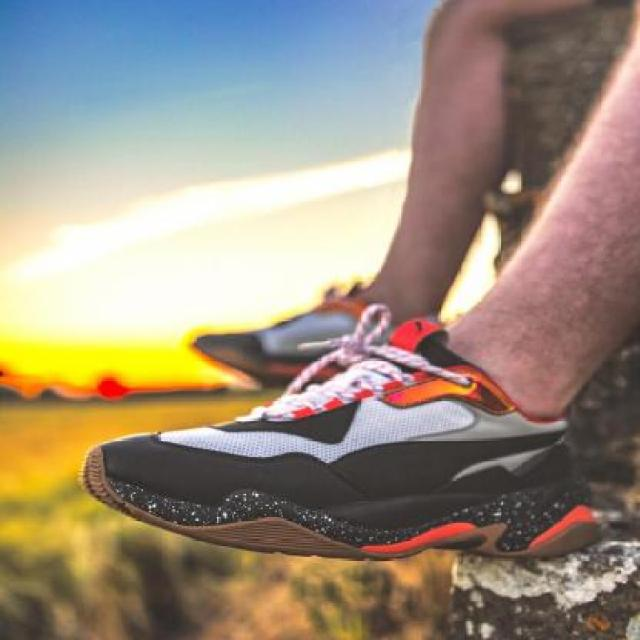shoe: (80, 358, 608, 550), (191, 287, 412, 381)
